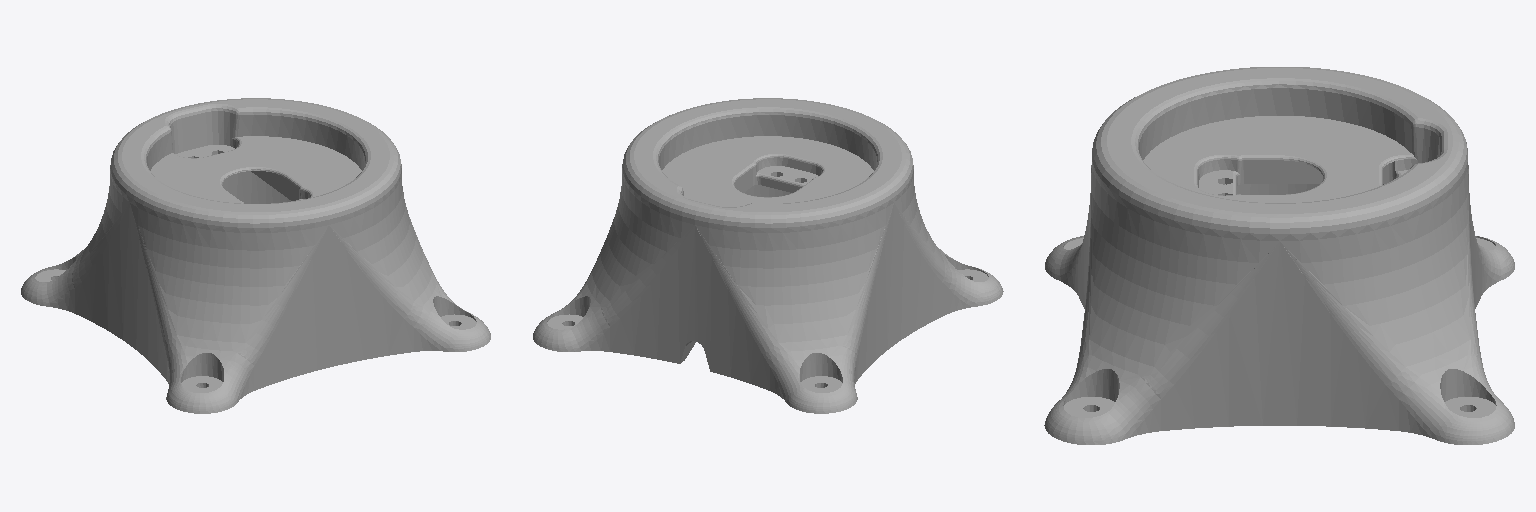
URDF robot description (industrial_robot_arm):
<robot name="industrial_robot_arm">
  <link name="ground" />

  <link name="base_link">
    <inertial>
      <origin xyz="5.216616645949832e-07 -0.0006208121955855723 0.028742444807128353" rpy="0 0 0" />
      <mass value="0.25615293560955293" />
      <inertia ixx="0.000371" iyy="0.000377" izz="0.000587" ixy="-0.0" iyz="2e-06" ixz="0.0" />
    </inertial>
    <visual>
      <origin xyz="0 0 0" rpy="0 0 0" />
      <geometry>
        <mesh filename="package://industrial_robot_arm/meshes/base_link.stl"
          scale="0.001 0.001 0.001" />
      </geometry>
      <material name="">
        <color rgba="0.700 0.700 0.700 1.000" />
      </material>
    </visual>
    <collision>
      <origin xyz="0 0 0" rpy="0 0 0" />
      <geometry>
        <mesh filename="package://industrial_robot_arm/meshes/base_link.stl"
          scale="0.001 0.001 0.001" />
      </geometry>
    </collision>
  </link>

  <link
    name="joint_1_1">
    <inertial>
      <origin xyz="-0.0026404804304306514 0.002948913658327358 0.02573129664762941" rpy="0 0 0" />
      <mass value="0.22026782930399874" />
      <inertia ixx="0.000177" iyy="0.000243" izz="0.000255" ixy="-4e-06" iyz="4e-06" ixz="1.5e-05" />
    </inertial>
    <visual>
      <origin xyz="0.0 0.0 -0.05" rpy="0 0 0" />
      <geometry>
        <mesh filename="package://industrial_robot_arm/meshes/joint_1_1.stl"
          scale="0.001 0.001 0.001" />
      </geometry>
      <material name="">
        <color rgba="0.700 0.700 0.700 1.000" />
      </material>
    </visual>
    <collision>
      <origin xyz="0.0 0.0 -0.05" rpy="0 0 0" />
      <geometry>
        <mesh filename="package://industrial_robot_arm/meshes/joint_1_1.stl"
          scale="0.001 0.001 0.001" />
      </geometry>
    </collision>
  </link>

  <link
    name="joint_2_RIGHT_1">
    <inertial>
      <origin xyz="0.021957987083265705 2.1757363543109531e-07 0.003650506119877689" rpy="0 0 0" />
      <mass value="0.06932703471595757" />
      <inertia ixx="9.3e-05" iyy="9.1e-05" izz="1.3e-05" ixy="-0.0" iyz="0.0" ixz="2e-06" />
    </inertial>
    <visual>
      <origin xyz="0.013 0.017415 -0.144351" rpy="0 0 0" />
      <geometry>
        <mesh filename="package://industrial_robot_arm/meshes/joint_2_RIGHT_1.stl"
          scale="0.001 0.001 0.001" />
      </geometry>
      <material name="">
        <color rgba="0.700 0.700 0.700 1.000" />
      </material>
    </visual>
    <collision>
      <origin xyz="0.013 0.017415 -0.144351" rpy="0 0 0" />
      <geometry>
        <mesh filename="package://industrial_robot_arm/meshes/joint_2_RIGHT_1.stl"
          scale="0.001 0.001 0.001" />
      </geometry>
    </collision>
  </link>

  <link
    name="joint_4_1">
    <inertial>
      <origin xyz="-0.0037547043382459835 -0.05737024902030911 0.002387724770523736" rpy="0 0 0" />
      <mass value="0.1702875253703865" />
      <inertia ixx="0.00031" iyy="6.4e-05" izz="0.000348" ixy="-4.7e-05" iyz="-9e-06" ixz="-2e-06" />
    </inertial>
    <visual>
      <origin xyz="0.005 0.037415 -0.27268" rpy="0 0 0" />
      <geometry>
        <mesh filename="package://industrial_robot_arm/meshes/joint_4_1.stl"
          scale="0.001 0.001 0.001" />
      </geometry>
      <material name="">
        <color rgba="0.700 0.700 0.700 1.000" />
      </material>
    </visual>
    <collision>
      <origin xyz="0.005 0.037415 -0.27268" rpy="0 0 0" />
      <geometry>
        <mesh filename="package://industrial_robot_arm/meshes/joint_4_1.stl"
          scale="0.001 0.001 0.001" />
      </geometry>
    </collision>
  </link>

  <link
    name="link_j4_j5_1">
    <inertial>
      <origin xyz="0.019510506404596558 -0.027788188164522526 -0.013999962432383939" rpy="0 0 0" />
      <mass value="0.03480265269587224" />
      <inertia ixx="1.6e-05" iyy="5e-06" izz="1.6e-05" ixy="5e-06" iyz="0.0" ixz="0.0" />
    </inertial>
    <visual>
      <origin xyz="0.005 0.133415 -0.28668" rpy="0 0 0" />
      <geometry>
        <mesh filename="package://industrial_robot_arm/meshes/link_j4_j5_1.stl"
          scale="0.001 0.001 0.001" />
      </geometry>
      <material name="">
        <color rgba="0.700 0.700 0.700 1.000" />
      </material>
    </visual>
    <collision>
      <origin xyz="0.005 0.133415 -0.28668" rpy="0 0 0" />
      <geometry>
        <mesh filename="package://industrial_robot_arm/meshes/link_j4_j5_1.stl"
          scale="0.001 0.001 0.001" />
      </geometry>
    </collision>
  </link>

  <link
    name="joint_5_6_1">
    <inertial>
      <origin xyz="0.02077284427411872 -0.013441807562935004 5.07179530156443e-05" rpy="0 0 0" />
      <mass value="0.034279369968409995" />
      <inertia ixx="1.6e-05" iyy="1e-05" izz="1.9e-05" ixy="-0.0" iyz="-0.0" ixz="0.0" />
    </inertial>
    <visual>
      <origin xyz="0.027 0.187415 -0.27268" rpy="0 0 0" />
      <geometry>
        <mesh filename="package://industrial_robot_arm/meshes/joint_5_6_1.stl"
          scale="0.001 0.001 0.001" />
      </geometry>
      <material name="">
        <color rgba="0.700 0.700 0.700 1.000" />
      </material>
    </visual>
    <collision>
      <origin xyz="0.027 0.187415 -0.27268" rpy="0 0 0" />
      <geometry>
        <mesh filename="package://industrial_robot_arm/meshes/joint_5_6_1.stl"
          scale="0.001 0.001 0.001" />
      </geometry>
    </collision>
  </link>

  <link
    name="joint_2_LEFT_1">
    <inertial>
      <origin xyz="0.01492142380784536 2.0000166532987973e-07 0.04415294138852814" rpy="0 0 0" />
      <mass value="0.06655205069580611" />
      <inertia ixx="0.000148" iyy="0.000142" izz="9e-06" ixy="-0.0" iyz="-0.0" ixz="-3e-06" />
    </inertial>
    <visual>
      <origin xyz="0.035 0.017415 -0.110054" rpy="0 0 0" />
      <geometry>
        <mesh filename="package://industrial_robot_arm/meshes/joint_2_LEFT_1.stl"
          scale="0.001 0.001 0.001" />
      </geometry>
      <material name="">
        <color rgba="0.700 0.700 0.700 1.000" />
      </material>
    </visual>
    <collision>
      <origin xyz="0.035 0.017415 -0.110054" rpy="0 0 0" />
      <geometry>
        <mesh filename="package://industrial_robot_arm/meshes/joint_2_LEFT_1.stl"
          scale="0.001 0.001 0.001" />
      </geometry>
    </collision>
  </link>

  <link
    name="joint_3_1">
    <inertial>
      <origin xyz="0.022122141024786154 0.0056050692971188025 0.03722389505779042" rpy="0 0 0" />
      <mass value="0.07188709477669679" />
      <inertia ixx="5.4e-05" iyy="4.2e-05" izz="4.2e-05" ixy="-1e-06" iyz="-3e-06" ixz="-2e-06" />
    </inertial>
    <visual>
      <origin xyz="0.025 0.017415 -0.230054" rpy="0 0 0" />
      <geometry>
        <mesh filename="package://industrial_robot_arm/meshes/joint_3_1.stl"
          scale="0.001 0.001 0.001" />
      </geometry>
      <material name="">
        <color rgba="0.700 0.700 0.700 1.000" />
      </material>
    </visual>
    <collision>
      <origin xyz="0.025 0.017415 -0.230054" rpy="0 0 0" />
      <geometry>
        <mesh filename="package://industrial_robot_arm/meshes/joint_3_1.stl"
          scale="0.001 0.001 0.001" />
      </geometry>
    </collision>
  </link>

  <link
    name="end_effector">
    <origin xyz="-6.64555216411955e-14 -0.042499799999997284 -9.999999728282916e-08" rpy="0 0 0" />
  </link>

  <joint name="joint1" type="revolute">
    <origin xyz="0.0 0.0 0.05" rpy="0 0 0" />
    <parent link="base_link" />
    <child link="joint_1_1" />
    <axis xyz="-0.0 -0.0 1.0" />
    <limit upper="1.570796" lower="-1.570796" effort="100" velocity="100" />
    <dynamics damping="10.0" friction="200.0" />

  </joint>

  <joint
    name="joint2" type="revolute">
    <origin xyz="-0.035 -0.017415 0.060054" rpy="0 0 0" />
    <parent link="joint_1_1" />
    <child link="joint_2_LEFT_1" />
    <axis xyz="-1.0 0.0 0.0" />
    <limit upper="1.570796" lower="-1.570796" effort="100" velocity="100" />
    <dynamics damping="10.0" friction="200.0" />
  </joint>


  <joint
    name="joint3" type="revolute">
    <origin xyz="0.01 0.0 0.12" rpy="0 0 0" />
    <parent link="joint_2_LEFT_1" />
    <child link="joint_3_1" />
    <axis xyz="-1.0 0.0 -0.0" />
    <limit upper="1.570796" lower="-1.570796" effort="100" velocity="100" />
    <dynamics damping="10.0" friction="200.0" />
  </joint>

  <joint
    name="joint4" type="revolute">
    <origin xyz="0.02 -0.02 0.042626" rpy="0 0 0" />
    <parent link="joint_3_1" />
    <child link="joint_4_1" />
    <axis xyz="-0.0 -1.0 0.0" />
    <limit upper="1.570796" lower="-1.570796" effort="100" velocity="100" />
    <dynamics damping="10.0" friction="200.0" />
  </joint>

  <joint
    name="joint5" type="revolute">
    <origin xyz="-0.022 -0.15 0.0" rpy="0 0 0" />
    <parent link="joint_4_1" />
    <child link="joint_5_6_1" />
    <axis xyz="-1.0 0.0 -0.0" />
    <limit upper="1.570796" lower="-1.570796" effort="100" velocity="100" />
    <dynamics damping="10.0" friction="200.0" />
  </joint>

  <joint
    name="joint6" type="revolute">
    <origin xyz="0.02075 -0.038 0.0" rpy="0 0 0" />
    <parent link="joint_5_6_1" />
    <child link="end_effector" />
    <axis xyz="-0.0 -1.0 0.0" />
    <limit upper="1.570796" lower="-1.570796" effort="100" velocity="100" />
    <dynamics damping="10.0" friction="200.0" />
  </joint>

  <joint
    name="Rigid 35" type="fixed">
    <origin xyz="0.022 0.0 0.034297" rpy="0 0 0" />
    <parent link="joint_2_LEFT_1" />
    <child link="joint_2_RIGHT_1" />
  </joint>

  <joint name="ground_to_base_link" type="fixed">
    <parent link="ground" />
    <child link="base_link" />
    <origin xyz="0 0 0" rpy="0 0 0" />
  </joint>

  <joint name="Rigid 38" type="fixed">
    <origin xyz="0.0 -0.096 0.014" rpy="0 0 0" />
    <parent link="joint_4_1" />
    <child link="link_j4_j5_1" />
  </joint>

  <ros2_control name="GazeboSystem" type="system">
    <hardware>
      <plugin>gazebo_ros2_control/GazeboSystem</plugin>
    </hardware>

    <!-- Define command and state interfaces for each joint -->
    <joint name="joint1">
      <command_interface name="position">
        <param name="min">-1.57</param>
        <param name="max">1.57</param>
      </command_interface>
      <state_interface name="position" />
    </joint>

    <joint name="joint2">
      <command_interface name="position">
        <param name="min">-1.57</param>
        <param name="max">1.57</param>
      </command_interface>
      <state_interface name="position" />
    </joint>

    <joint name="joint3">
      <command_interface name="position">
        <param name="min">-1.57</param>
        <param name="max">1.57</param>
      </command_interface>
      <state_interface name="position" />
    </joint>

    <joint name="joint4">
      <command_interface name="position">
        <param name="min">-1.57</param>
        <param name="max">1.57</param>
      </command_interface>
      <state_interface name="position" />
    </joint>

    <joint name="joint5">
      <command_interface name="position">
        <param name="min">-1.57</param>
        <param name="max">1.57</param>
      </command_interface>
      <state_interface name="position" />
    </joint>

    <joint name="joint6">
      <command_interface name="position">
        <param name="min">-1.57</param>
        <param name="max">1.57</param>
      </command_interface>
      <state_interface name="position" />
    </joint>
  </ros2_control>


  <gazebo>
    <plugin filename="libgazebo_ros2_control.so" name="gazebo_ros2_control">
      <robot_param>robot_description</robot_param>
      <robot_param_node>robot_state_publisher</robot_param_node>
      <parameters>[local-path]/robotic_workspace/src/industrial_robot_arm/config/jtc.yaml</parameters>
    </plugin>
  </gazebo>


</robot>

--- What the picture shows (computed from the rendered views, not written in the file) ---
The picture shows the robot from 3 angles, left to right: view 1: azimuth 30°, elevation 25°; view 2: azimuth 150°, elevation 25°; view 3: azimuth 270°, elevation 25°; orthographic projection.
Model industrial_robot_arm with 10 links and 9 joints (6 revolute, 3 fixed), rooted at ground, posed all joints at 0.
Visible links, largest first — view 1: base_link; view 2: base_link; view 3: base_link.
Boxes of the visible links, box(x1,y1,x2,y2) form: base_link: box(21, 98, 490, 413); base_link: box(533, 98, 1003, 413); base_link: box(1044, 67, 1514, 444).
Size in the robot's own frame: 0.125 by 0.125 by 0.06 metres.
Meshes: 8 distinct files referenced, 1 mesh visuals loaded (1 binary STL); not drawn: 7 (reference not matched to a file when rendering).